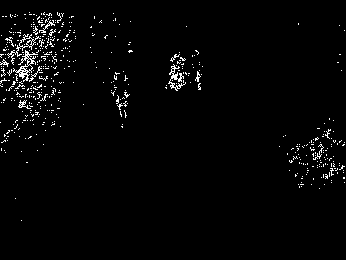person: (108, 69, 133, 124)
